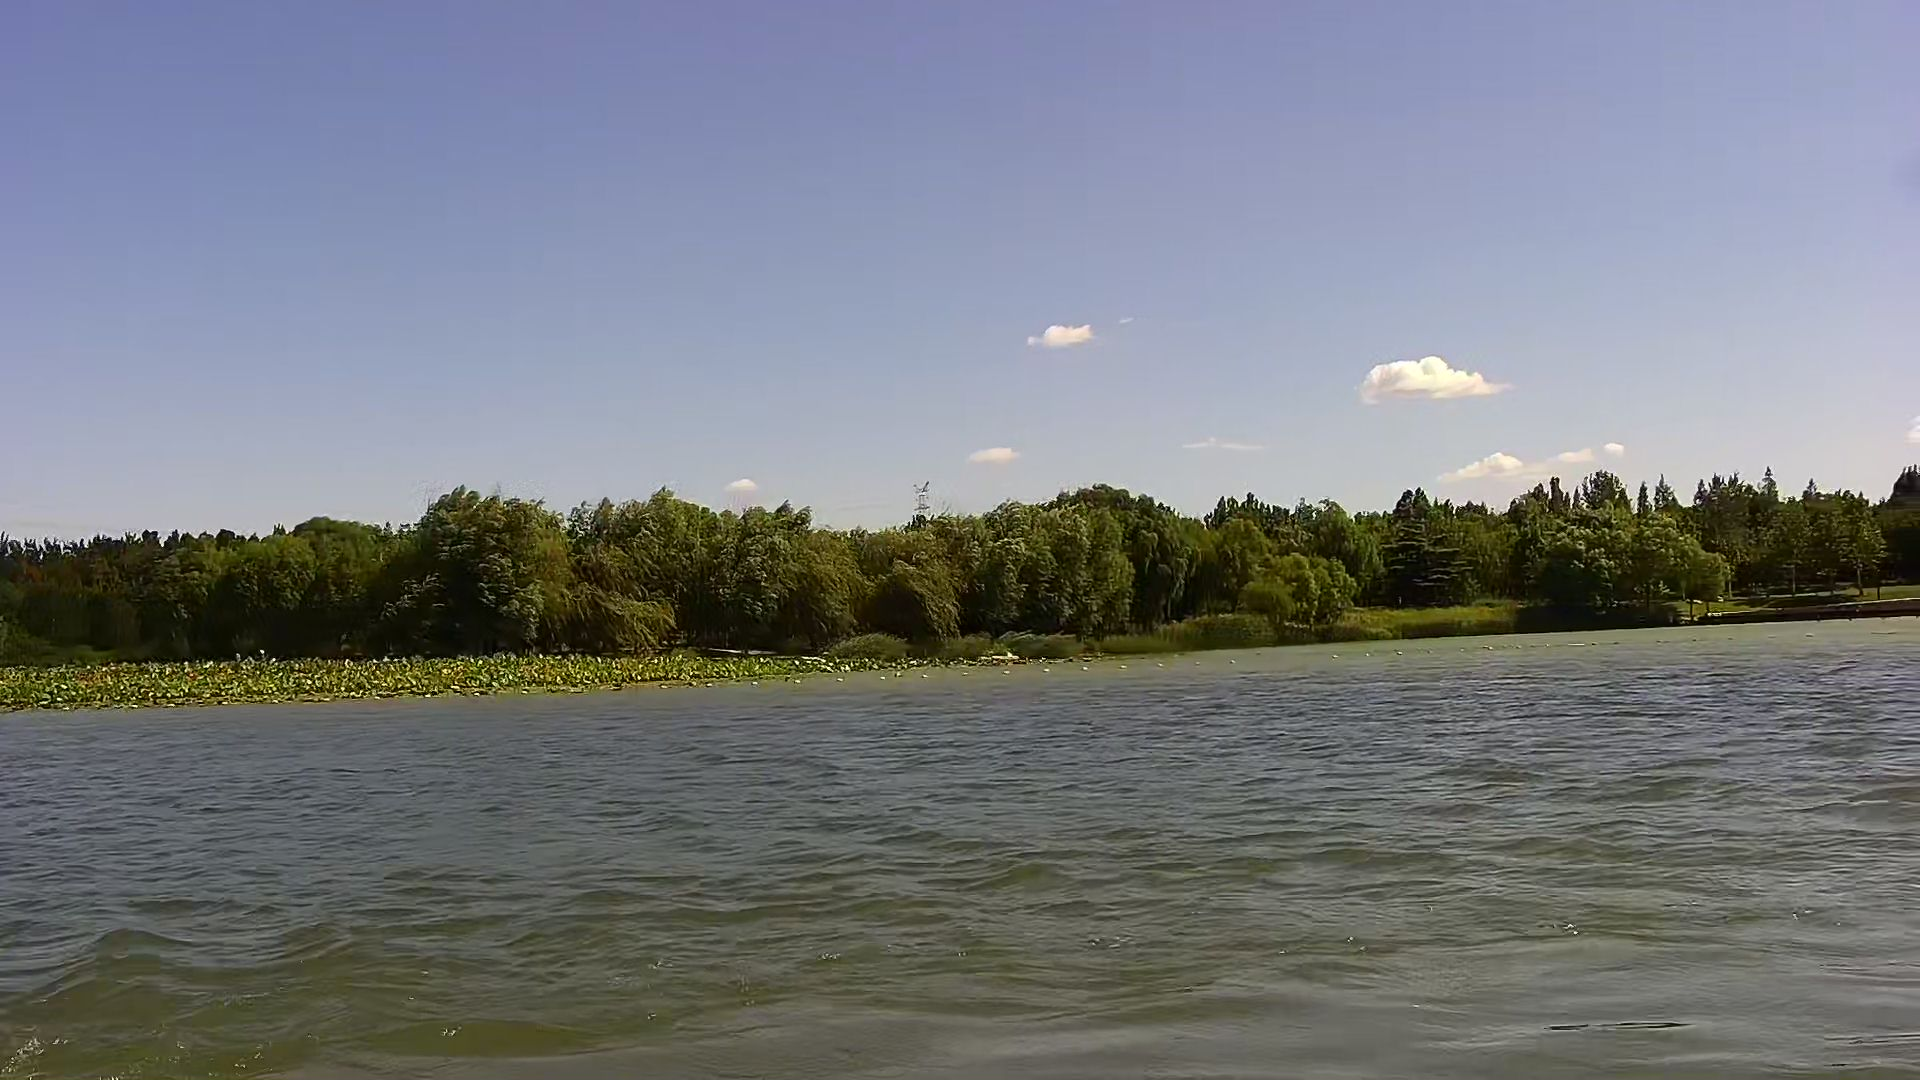grass: (3, 654, 980, 705)
